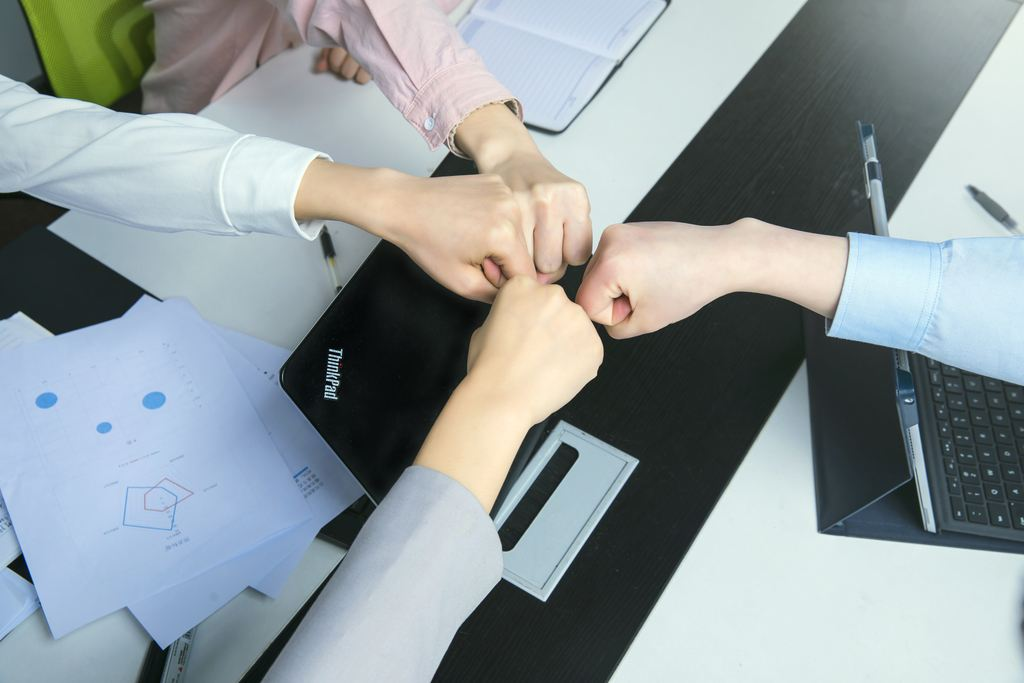no-phone: (378, 161, 540, 304), (575, 214, 743, 341), (461, 273, 605, 414), (470, 150, 596, 273)
